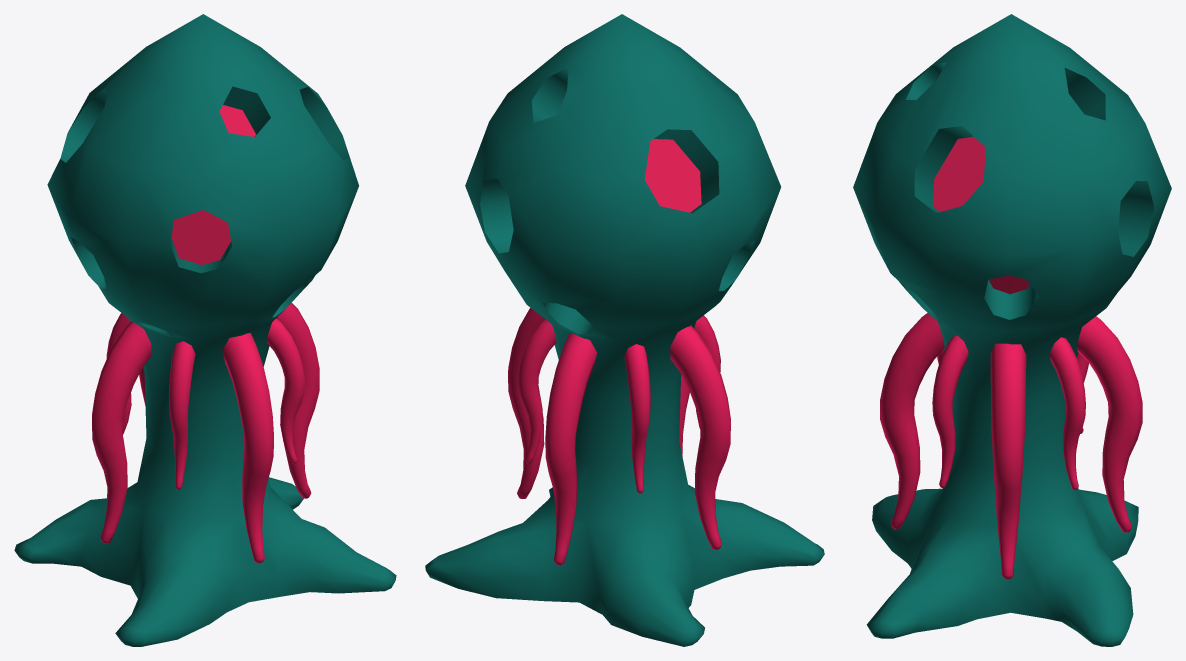
File: Plant_6_green.fbx
The picture shows the model from 3 angles, left to right: view 1: azimuth 30°, elevation 25°; view 2: azimuth 150°, elevation 25°; view 3: azimuth 270°, elevation 25°; orthographic projection.
Parts seen in each view (by area): view 1: Plant_6_green; view 2: Plant_6_green; view 3: Plant_6_green.
Part boxes in pixels (<box>): Plant_6_green: <box>14,14,396,646</box>; Plant_6_green: <box>425,14,824,646</box>; Plant_6_green: <box>853,14,1171,646</box>.
Size of the model in its own units: 1.86 by 3.43 by 1.76.
